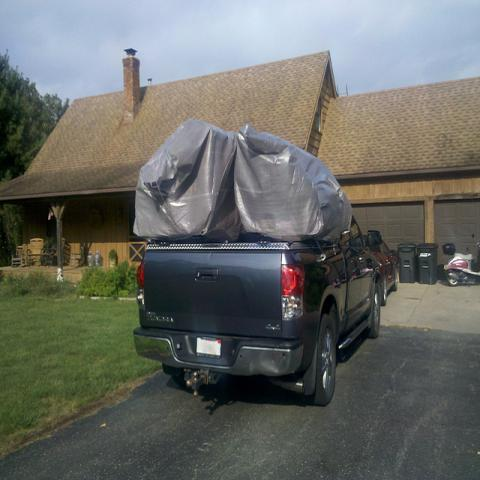car: (365, 233, 402, 309)
motorcycle: (442, 240, 479, 289)
truck: (133, 214, 382, 406)
